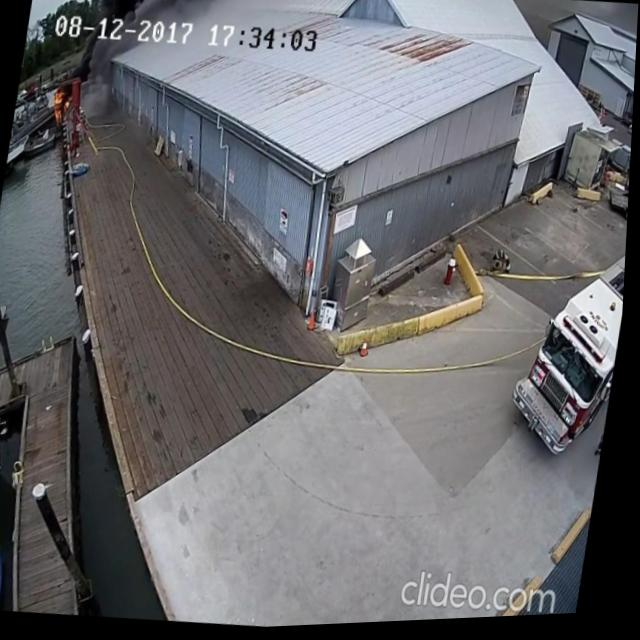fire: (49, 87, 69, 127)
